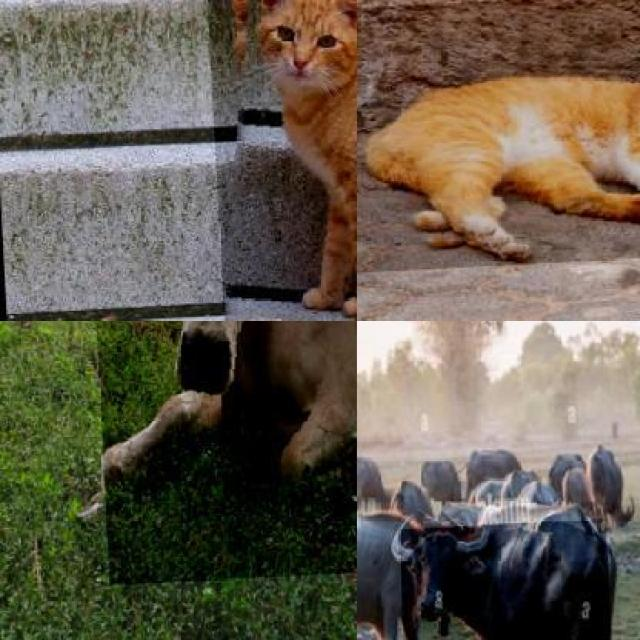buffalo: (397, 517, 618, 640), (357, 503, 405, 640), (460, 438, 525, 489), (589, 446, 628, 526), (357, 448, 389, 514), (418, 451, 458, 500), (551, 457, 586, 505)
cat: (357, 0, 640, 272), (206, 0, 357, 320)
cow: (81, 320, 357, 585)
